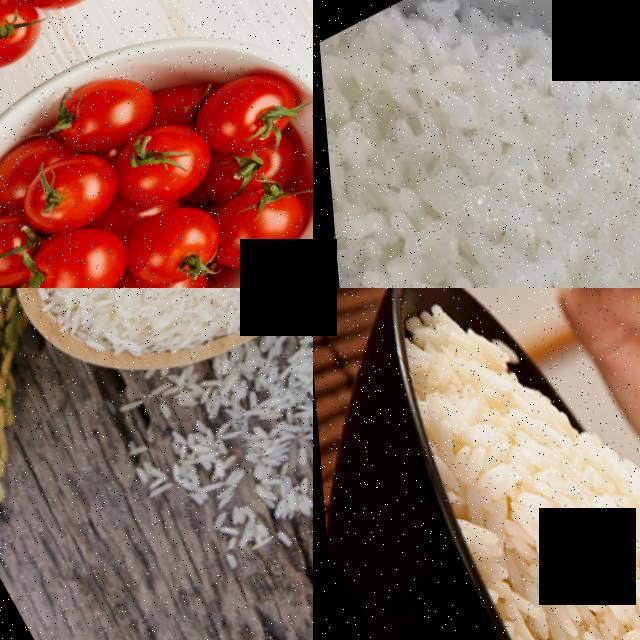tomato: (175, 57, 312, 170), (94, 110, 226, 221), (37, 58, 170, 168), (104, 191, 233, 288), (0, 212, 138, 288), (2, 0, 126, 26)
white rice: (340, 288, 640, 640), (315, 0, 640, 288), (2, 288, 313, 375)
